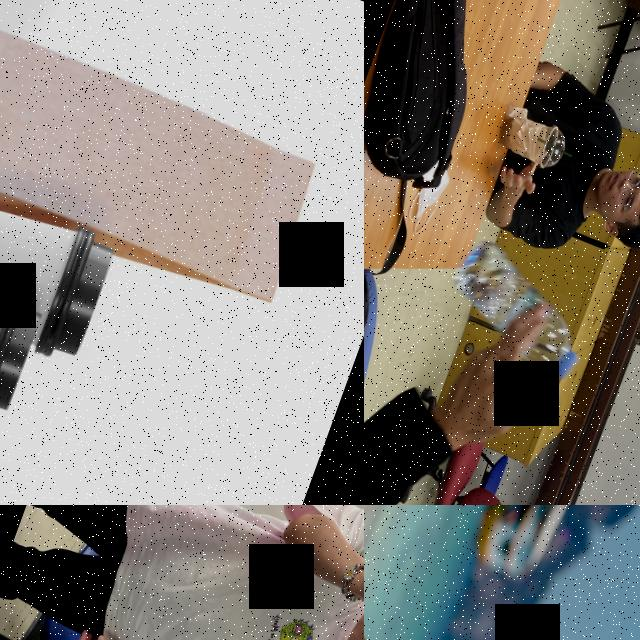cup: (0, 137, 124, 369), (492, 101, 574, 177)
